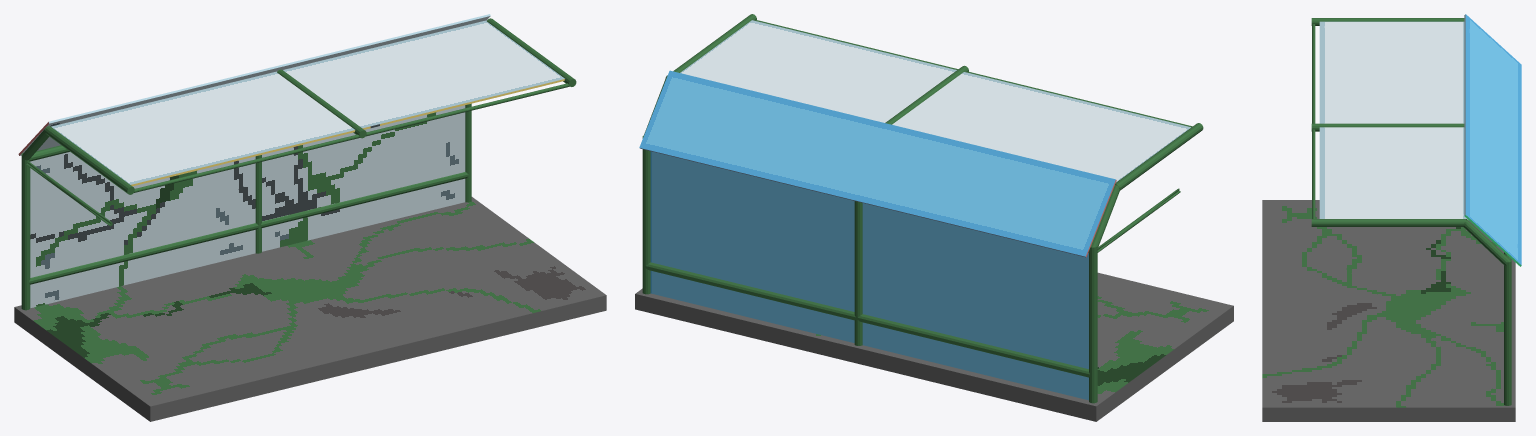
Rendered from Greenhouse.gltf.
3 views of the same model, side by side, from view 1: azimuth 30°, elevation 25°; view 2: azimuth 150°, elevation 25°; view 3: azimuth 270°, elevation 25° (orthographic). The views are drawn at different scales.
Visible parts, largest first — view 1: cube (×4), cylinder (×8); view 2: cube (×4), cylinder (×8); view 3: cube (×3), cylinder (×6).
Part boxes in pixels (x1,y1,x2,y2): cube (×4): (14,14,606,421); cylinder (×8): (21,18,576,310); cube (×4): (635,20,1233,421); cylinder (×8): (642,14,1203,403); cube (×3): (1262,14,1521,421); cylinder (×6): (1311,18,1511,405).
Bounding box in the file's own units: 0.775 × 0.3547 × 0.4096.
Materials: 5 (5 with a texture image).
